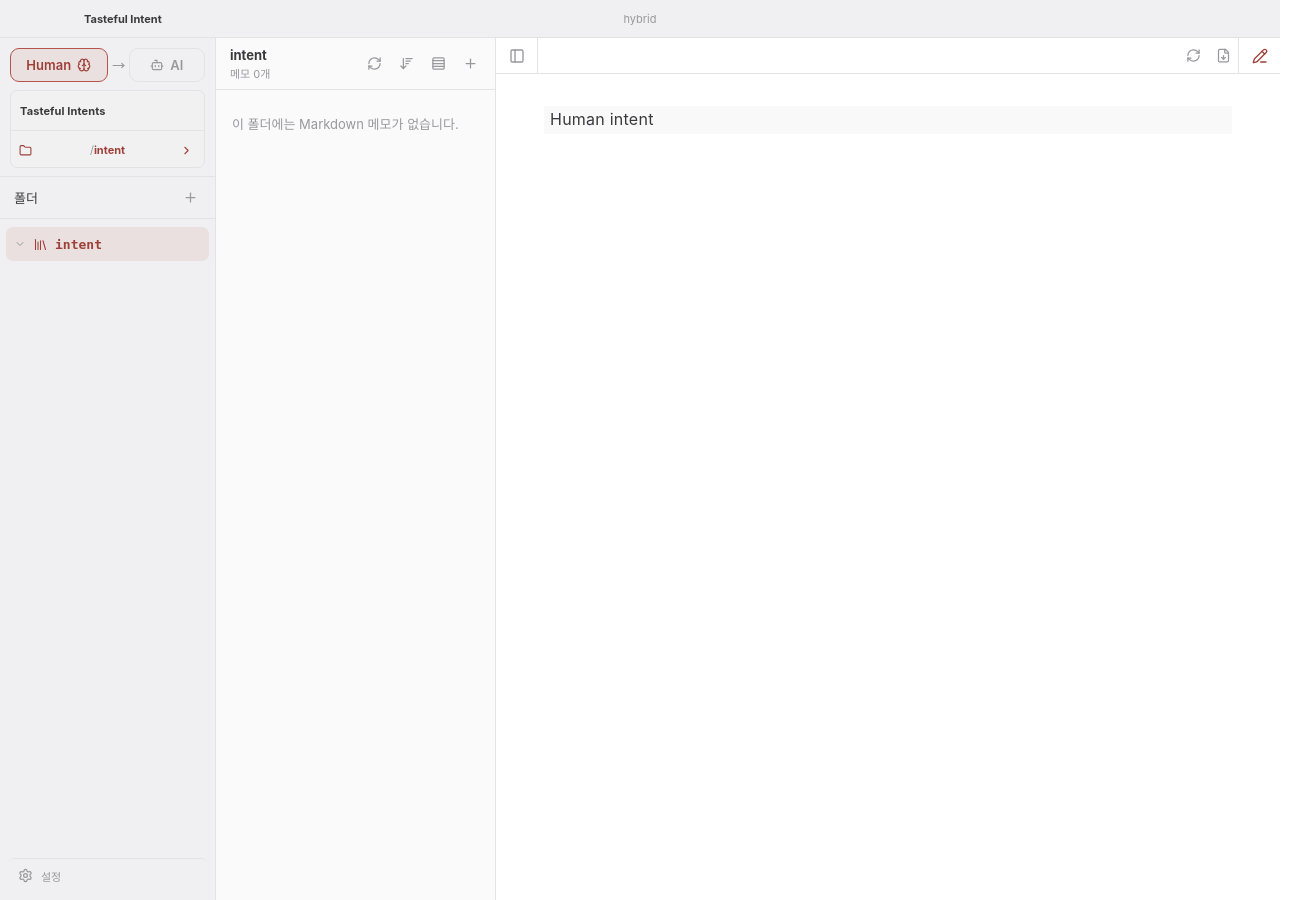
it: content toolbar › shows PDF export failures in the inline error notice
Click the button named "현재 문서를 PDF로 내보내기": coordinates (1223, 56) 1208,40 -> 1238,70
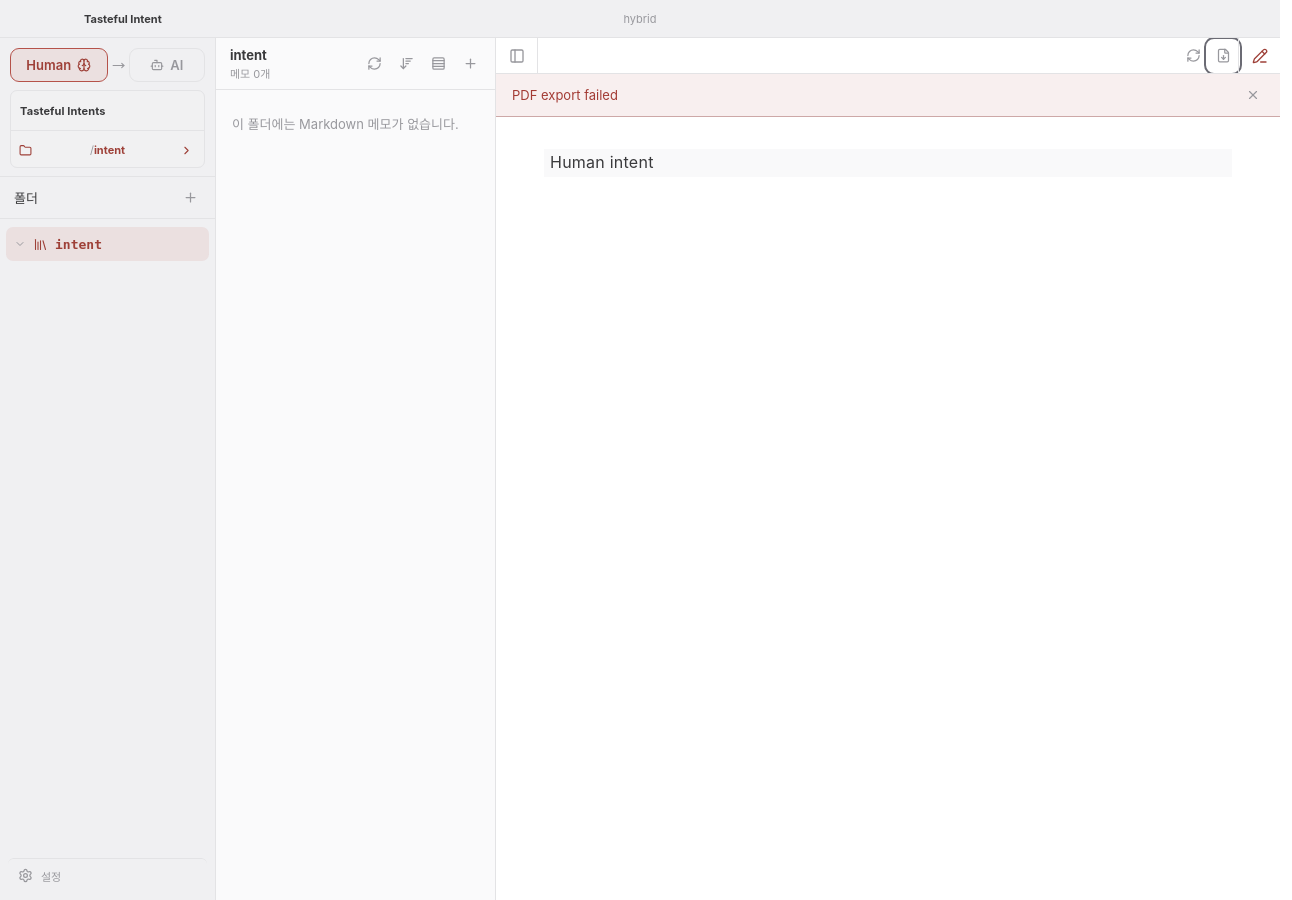
Check: the message reads "PDF export failed", box 512,87 -> 618,103
